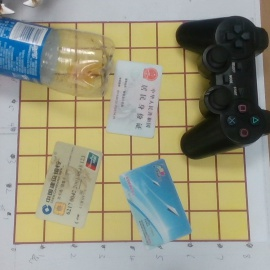card: (118, 159, 191, 250), (35, 139, 103, 230), (107, 58, 160, 139)
remote: (173, 18, 270, 162)
